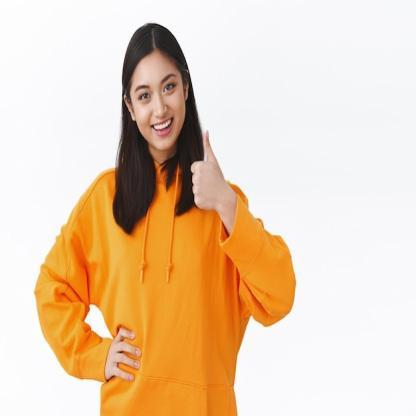thumb_up: (186, 129, 227, 222)
